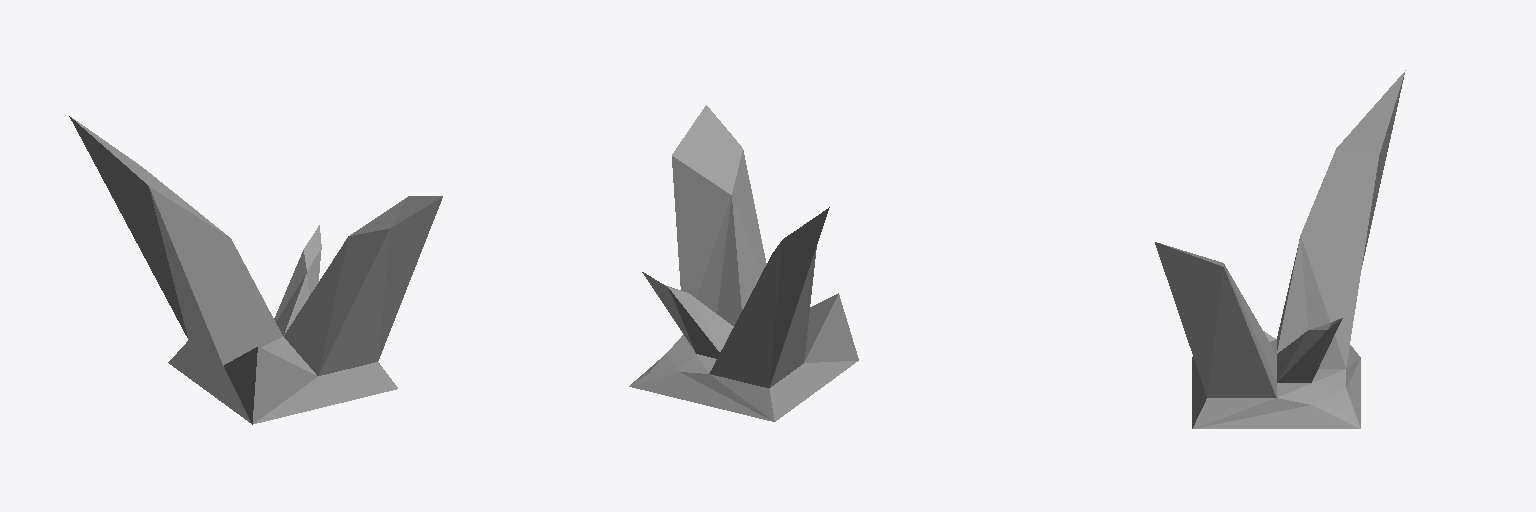
Rendered from crystal.obj.
The picture shows the model from 3 angles: view 1: azimuth 30°, elevation 25°; view 2: azimuth 150°, elevation 25°; view 3: azimuth 270°, elevation 25°; orthographic projection.
Parts seen in each view (by area): view 1: Cube; view 2: Cube; view 3: Cube.
Boxes of the visible parts, <box> form: Cube: <box>69,116,442,424</box>; Cube: <box>629,105,858,421</box>; Cube: <box>1155,70,1405,428</box>.
Bounding box in the file's own units: 3.4 × 3.27 × 2.98.